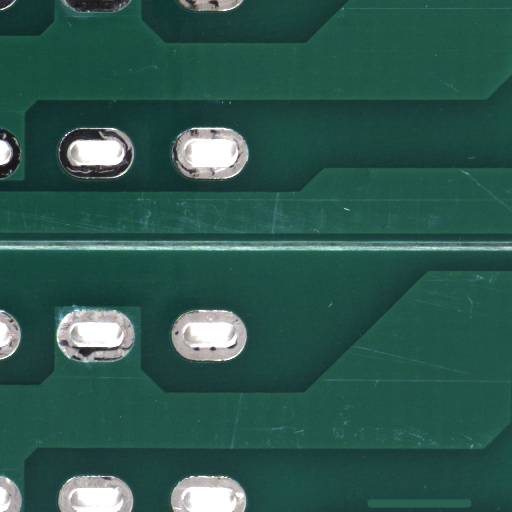Spurious_copper: (418, 502, 512, 512)
